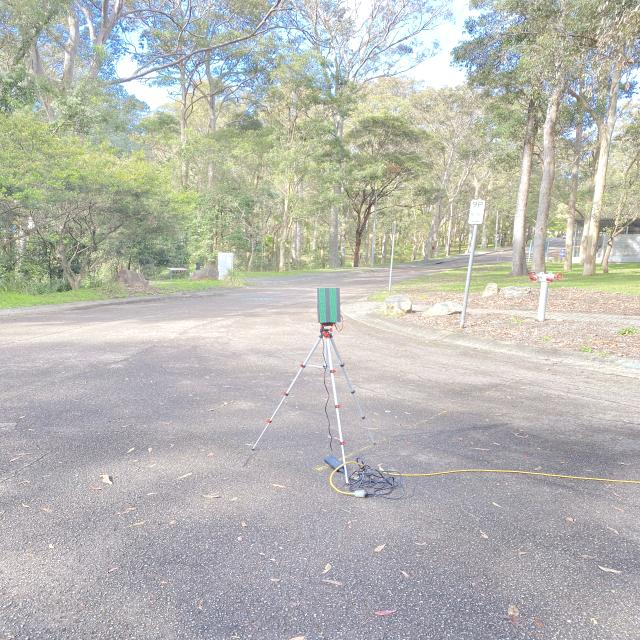matrix: (310, 282, 346, 327)
